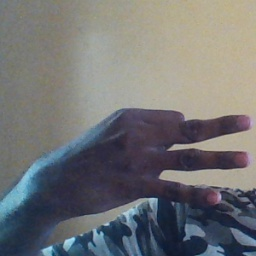K: (55, 105, 252, 214)
